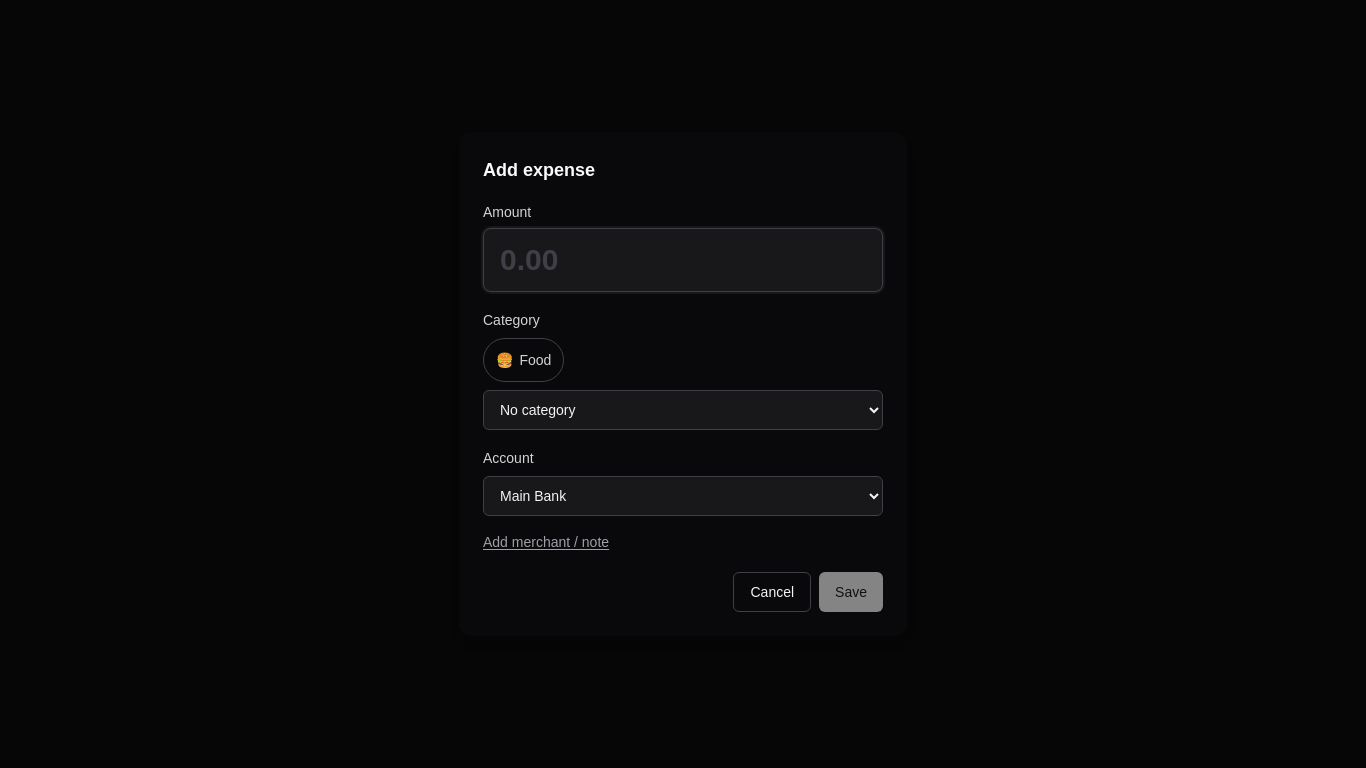
Test: AddExpenseSheet - offline save › shows a real validation error from the server without queuing it (online, definitive rejection)
Expected: the button "🍔 Food" is shown, [483,338,564,382]
Type "50" into the field labelled "Amount".
click(683, 260); type("50")  # box [483,228,883,292]
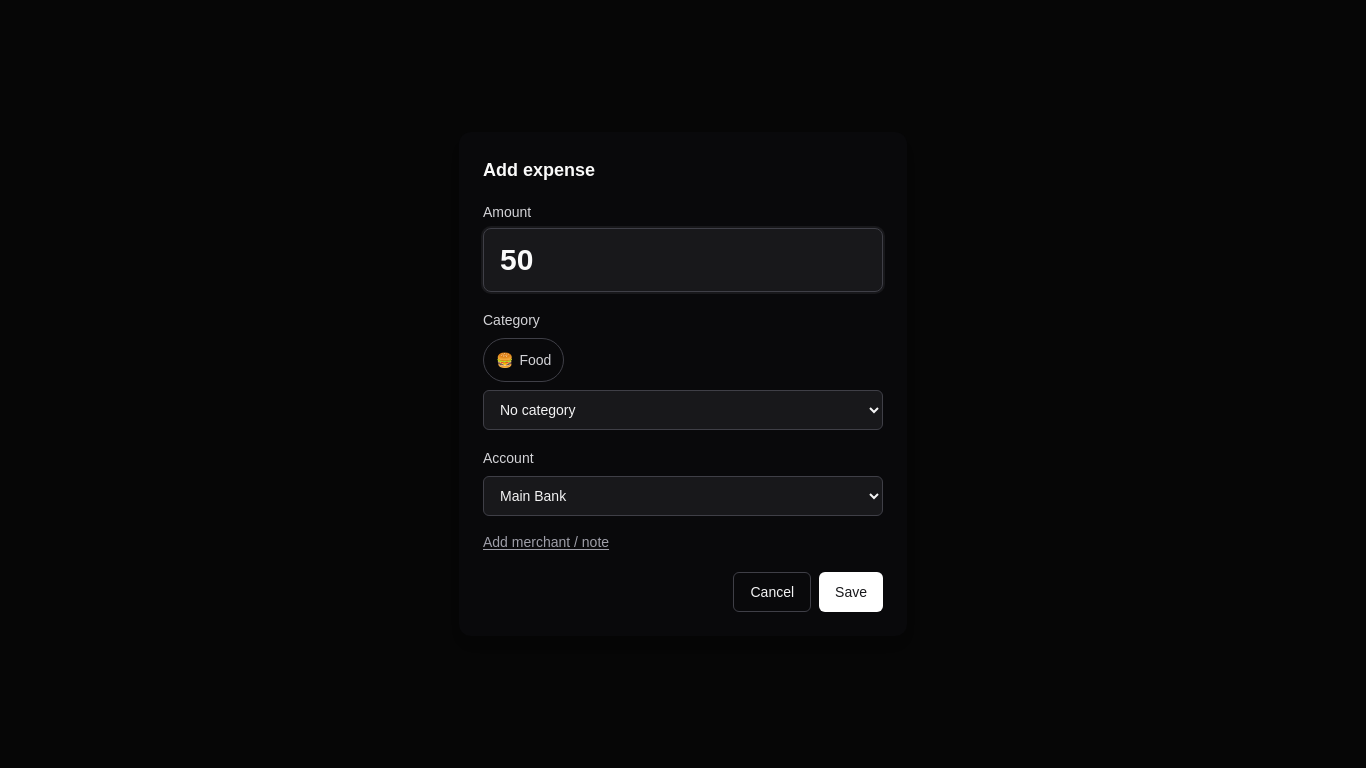
Click the button "Save".
click(851, 592)  # box [819,572,883,612]
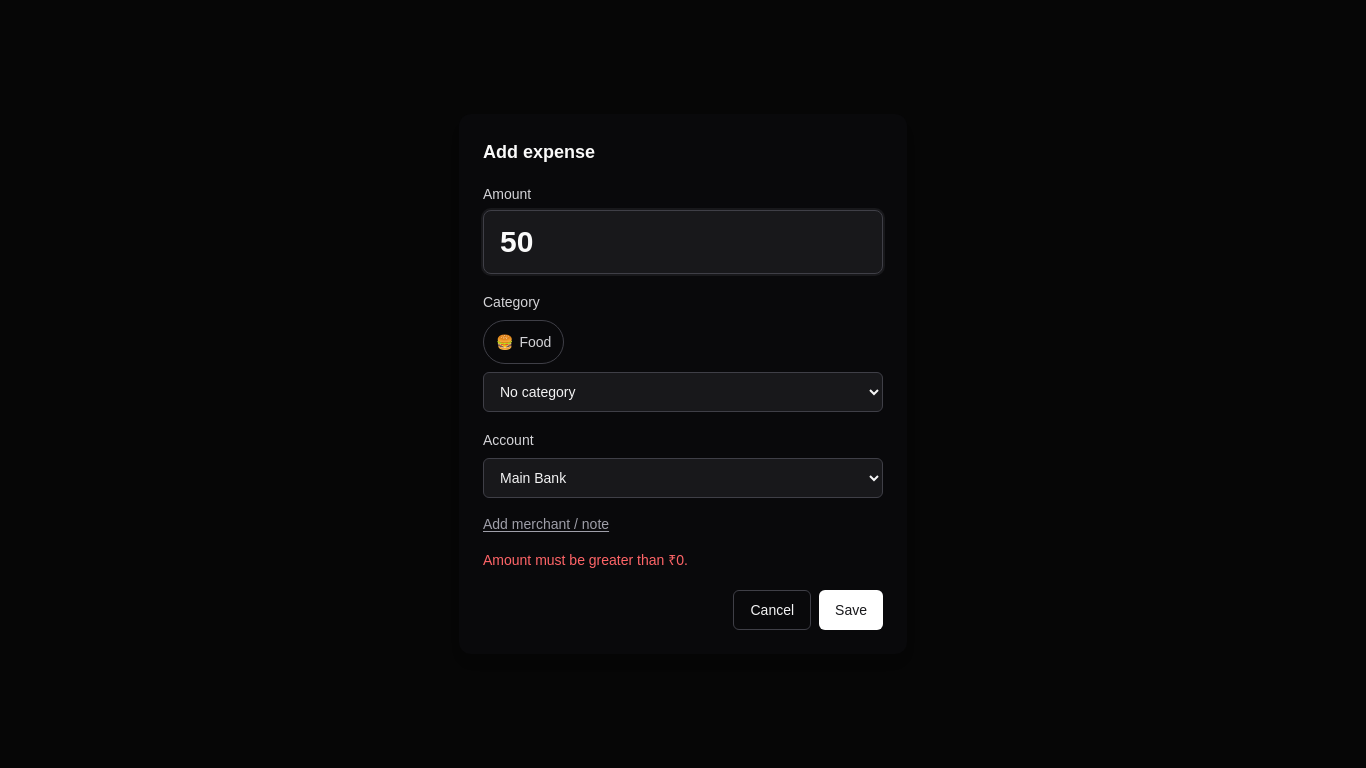
Expected: the message shows "Amount must be greater", [483,552,688,568]
